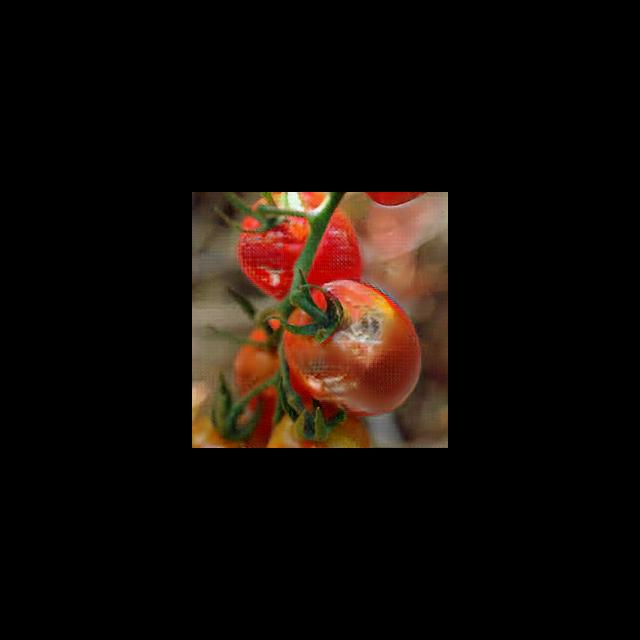tomato: (281, 278, 422, 418), (237, 194, 364, 295)
